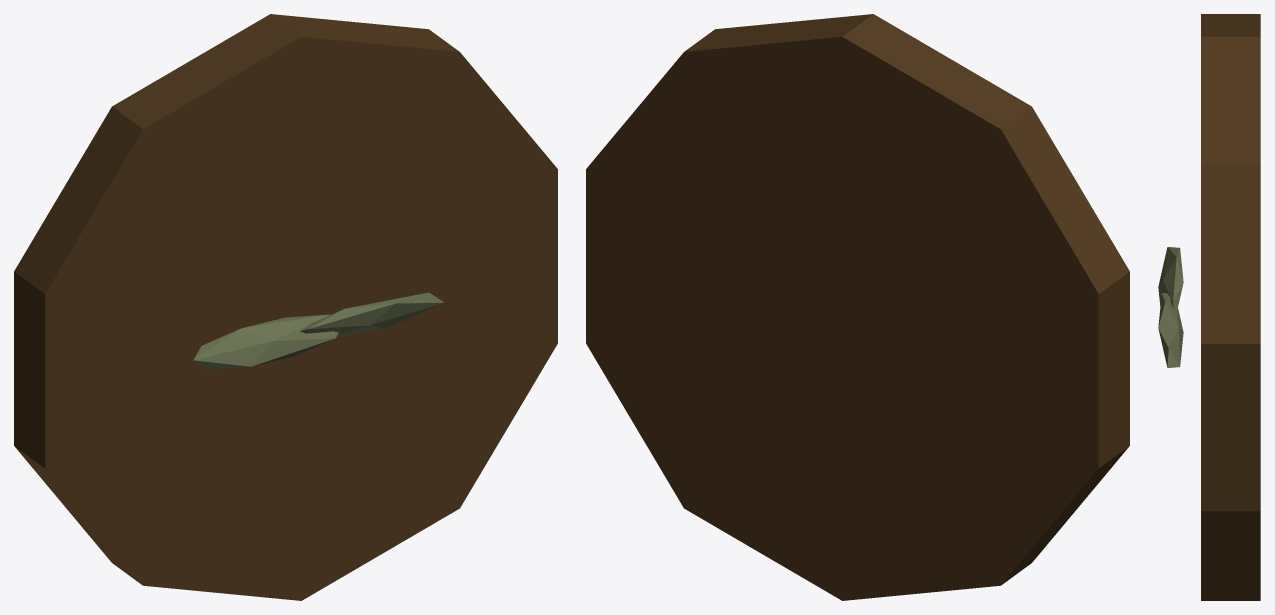
Rendered from 1_seedling.obj.
3 renders of one model, left to right at view 1: azimuth 30°, elevation 25°; view 2: azimuth 150°, elevation 25°; view 3: azimuth 270°, elevation 25°, orthographic. The views are drawn at different scales.
Visible parts, largest first — view 1: lavender_1_seedling; view 2: lavender_1_seedling; view 3: lavender_1_seedling.
Boxes of the visible parts, x1,y1,x2,y2 form: lavender_1_seedling: (14, 14, 557, 600); lavender_1_seedling: (586, 14, 1129, 600); lavender_1_seedling: (1158, 14, 1260, 600).
Size of the model in its own units: 0.1902 by 0.2 by 0.0342.
